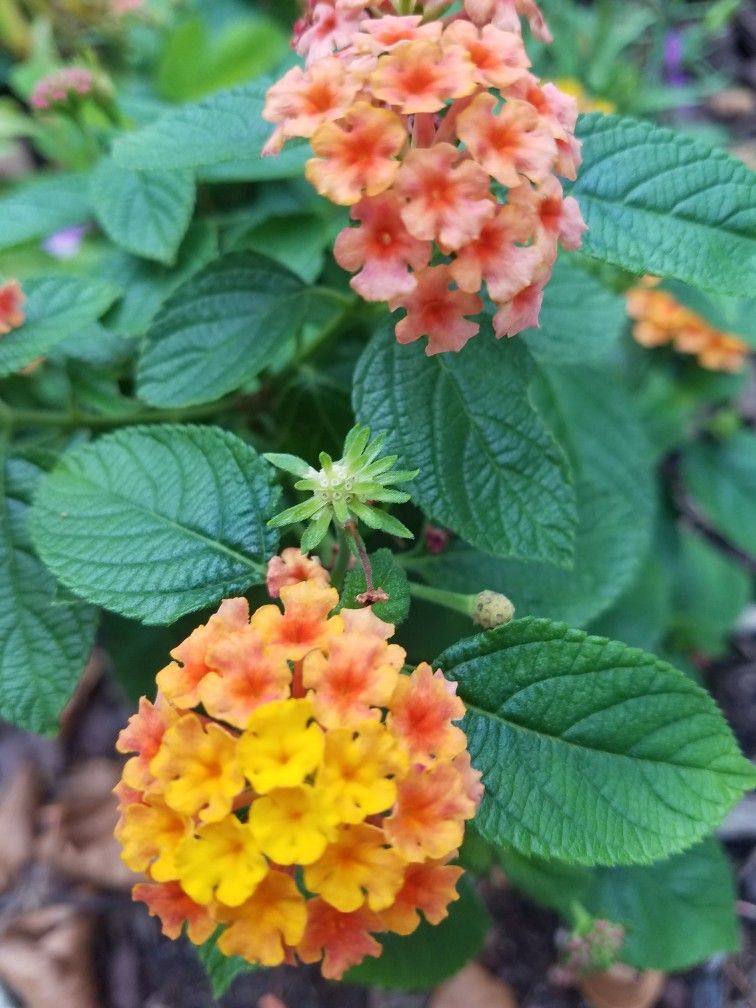lantana: (304, 106, 403, 205), (334, 202, 429, 301), (445, 201, 539, 298), (404, 145, 490, 243), (304, 826, 403, 911), (321, 721, 405, 821), (458, 98, 555, 183), (163, 718, 242, 822), (391, 767, 475, 863), (387, 664, 463, 769), (391, 267, 480, 355), (221, 874, 305, 966), (201, 637, 291, 722), (303, 638, 391, 721), (373, 42, 475, 111), (189, 817, 266, 902), (264, 61, 353, 132), (304, 900, 385, 978), (244, 710, 324, 786), (504, 181, 585, 256), (253, 584, 340, 653), (251, 788, 328, 863), (502, 72, 579, 141), (157, 627, 225, 705), (447, 22, 526, 86), (357, 15, 440, 49)
